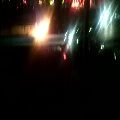fire: (29, 17, 50, 40)
